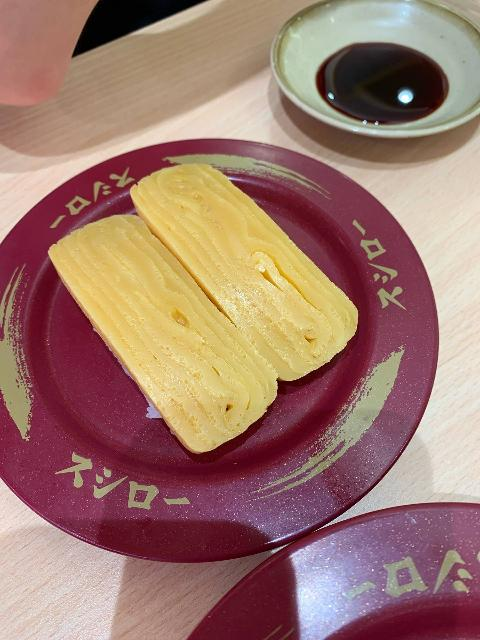janred: (22, 157, 421, 514), (187, 502, 480, 640)
